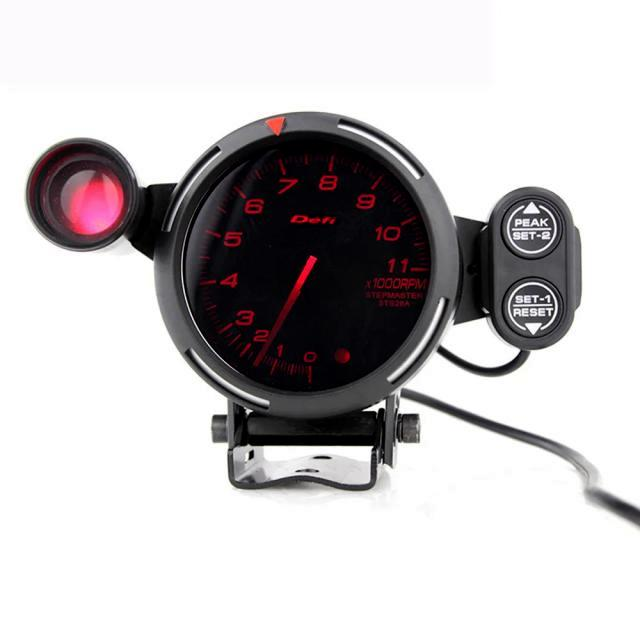Needle_Tip: (243, 344, 273, 377)
Needle_base: (272, 240, 349, 283)
max_value: (370, 251, 427, 285)
min_value: (296, 341, 327, 376)
